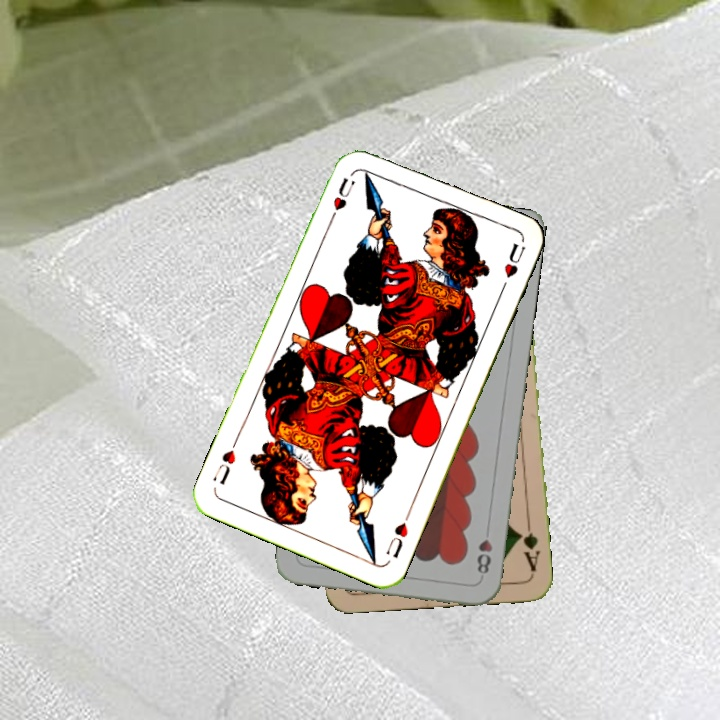GA: (514, 516, 543, 574)
H8: (473, 535, 495, 577)
HU: (382, 508, 413, 561), (329, 173, 358, 213)
